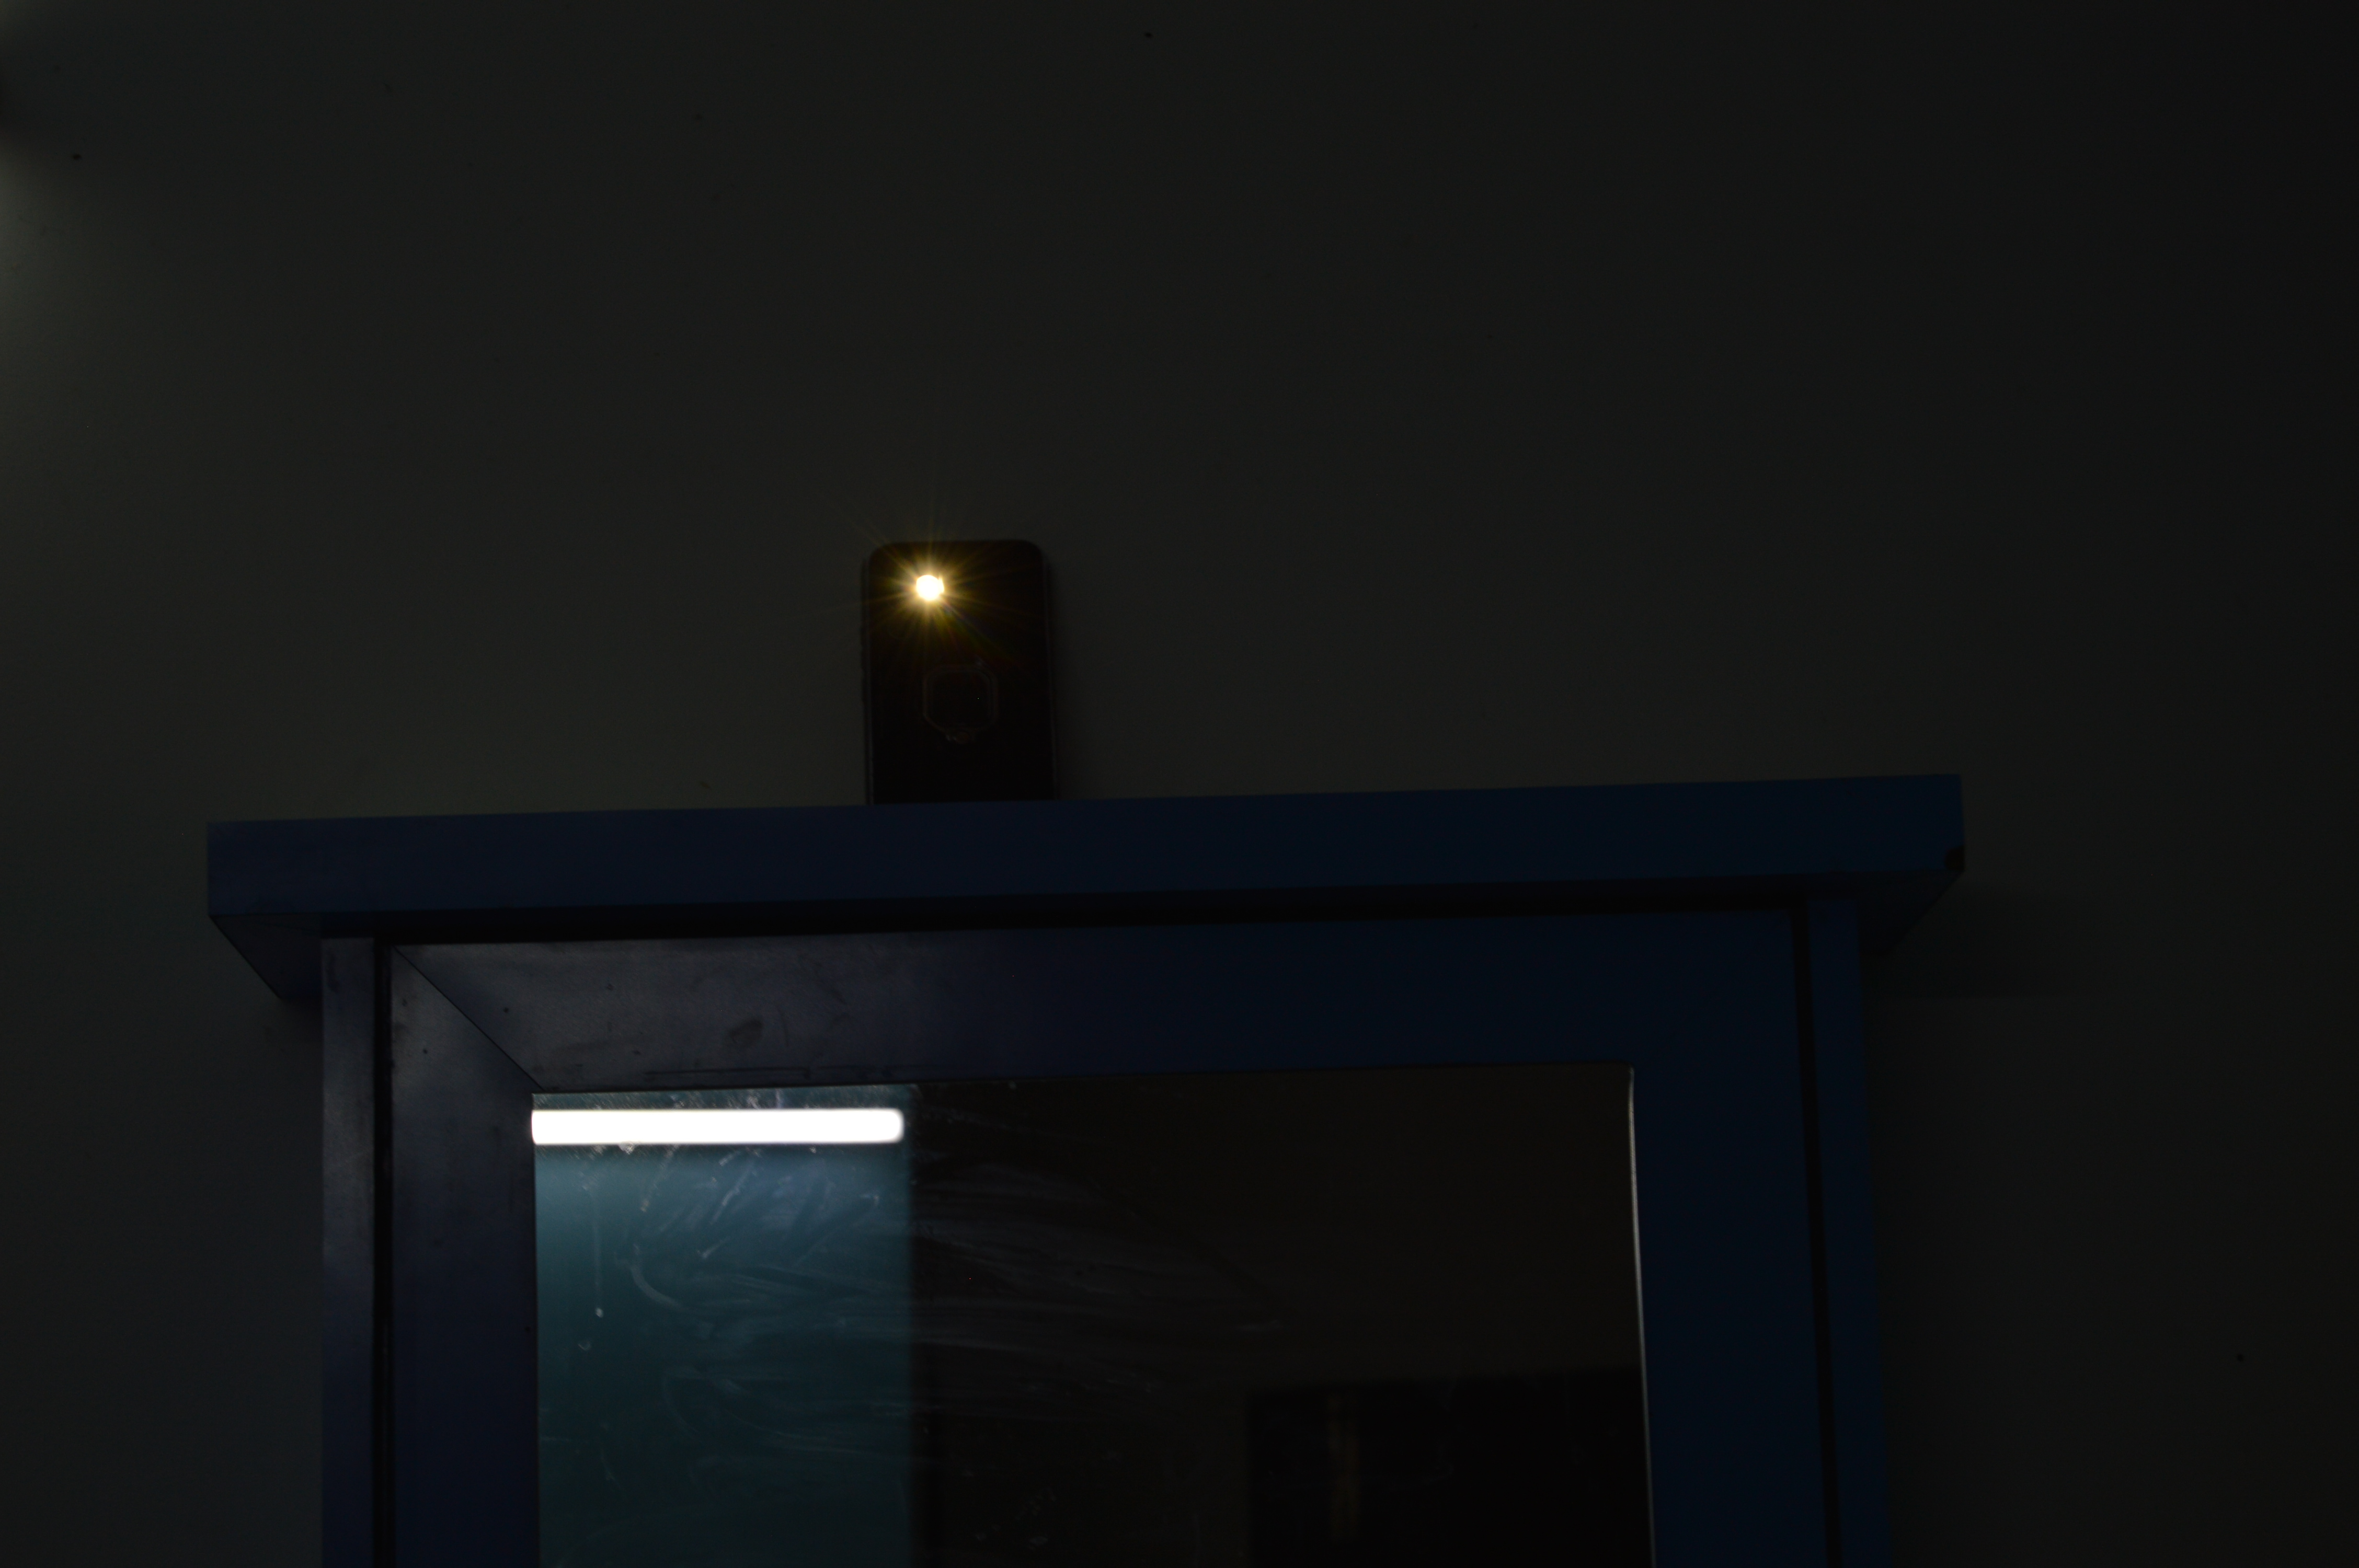Glare: (905, 567, 959, 616)
